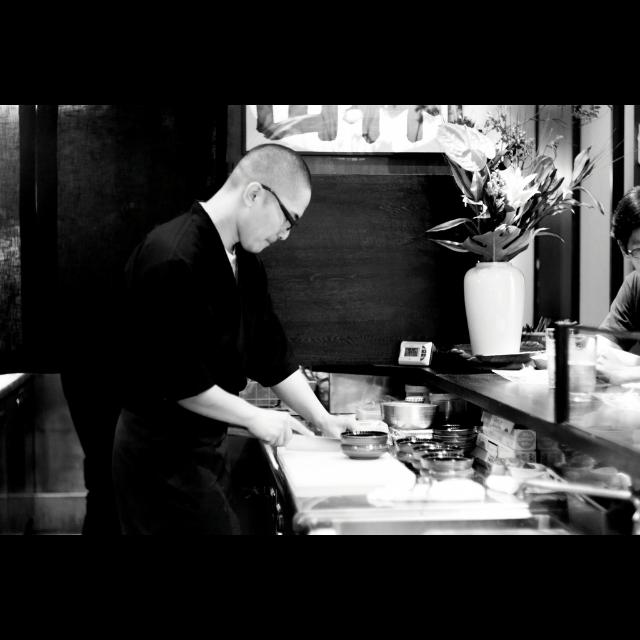Flower: (491, 166, 542, 207)
